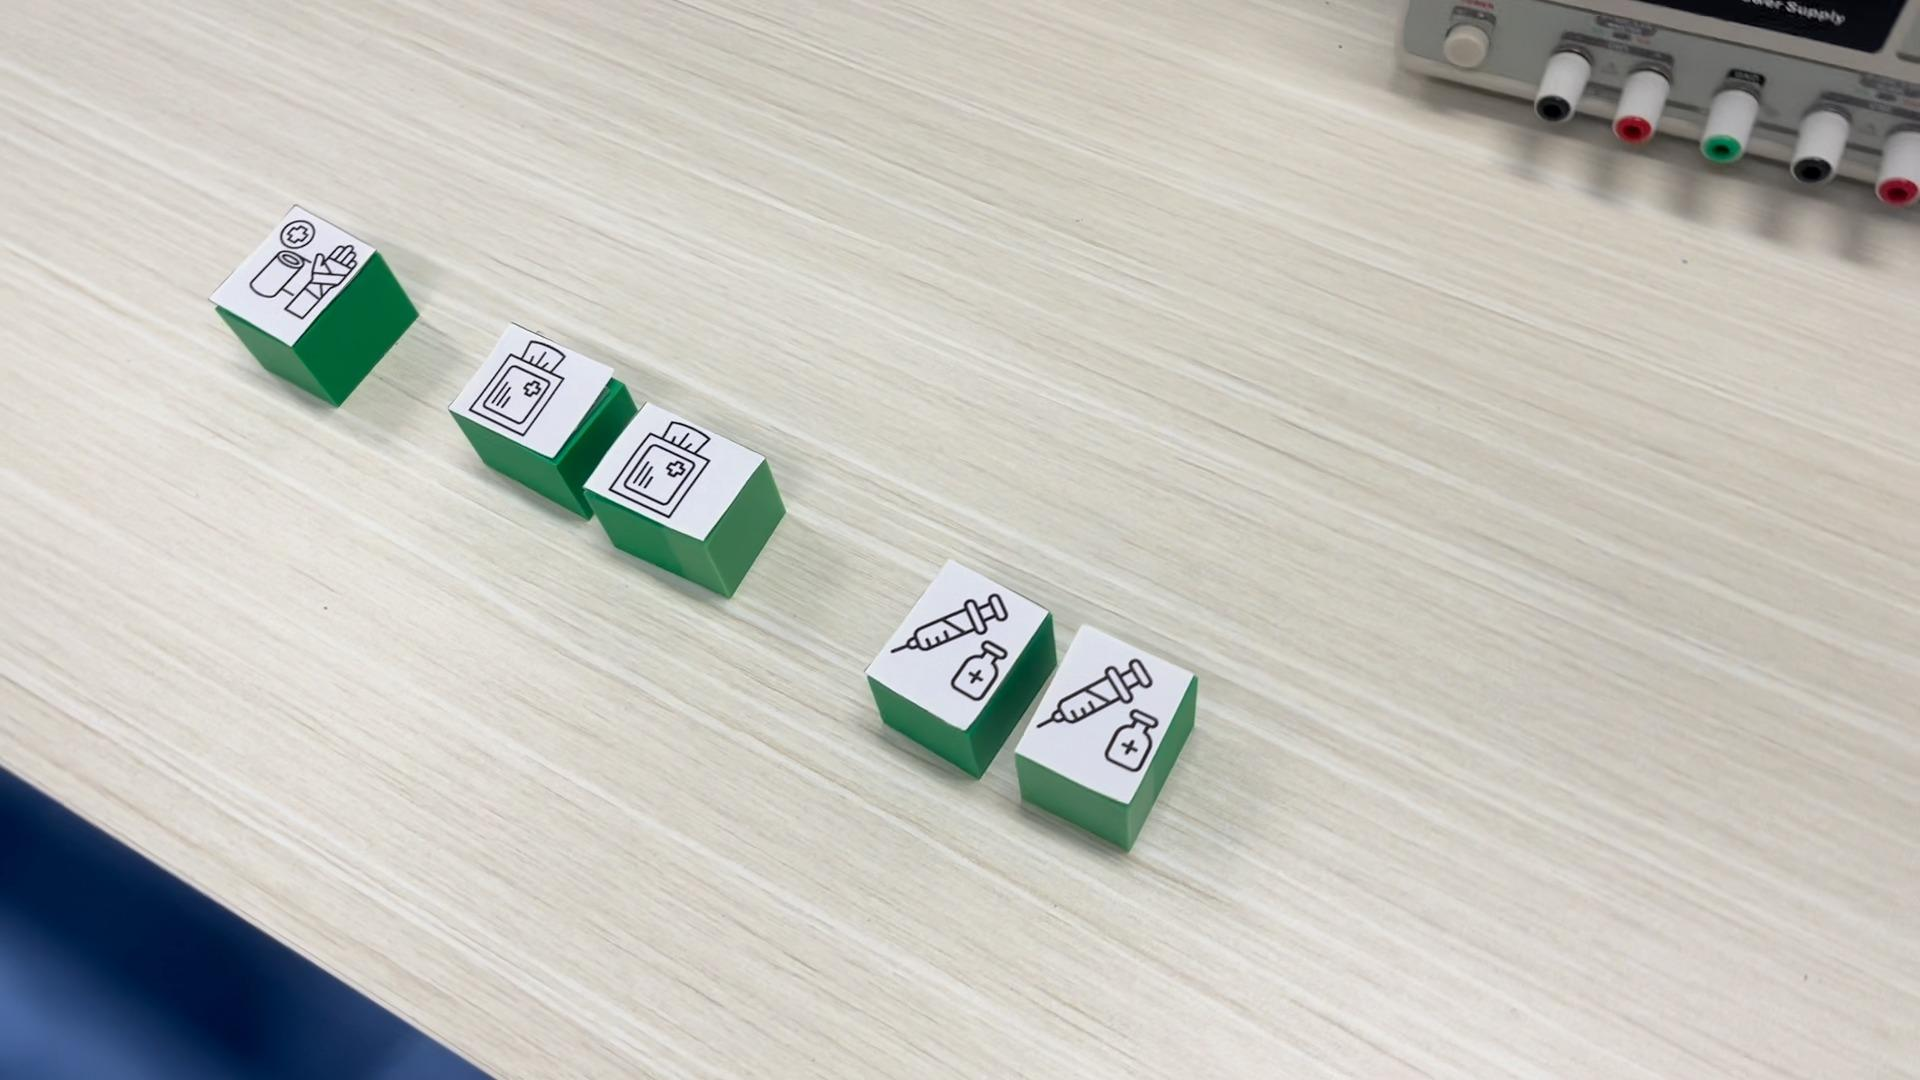Bandages: (206, 204, 419, 406)
Gauze: (585, 398, 787, 601), (450, 324, 613, 512)
antiseptic cream: (862, 556, 1056, 778), (1017, 621, 1199, 853)
